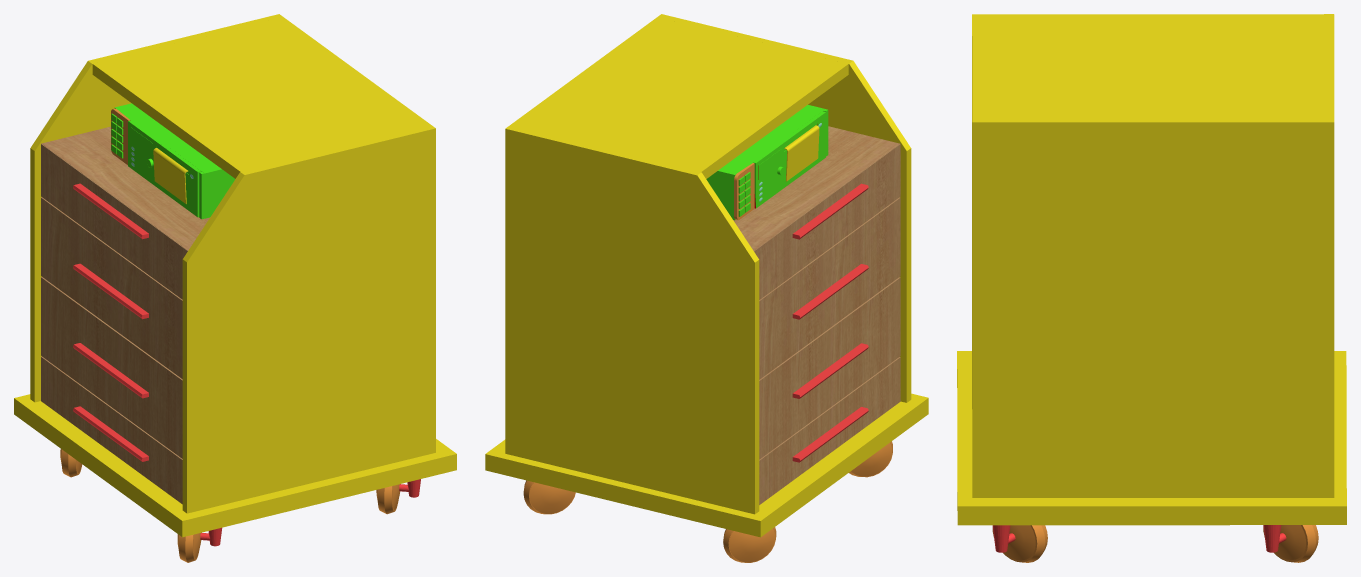
Rendered from cabinet03.FBX.
3 views of the same model, side by side, from view 1: azimuth 30°, elevation 25°; view 2: azimuth 150°, elevation 25°; view 3: azimuth 270°, elevation 25° (orthographic). The views are drawn at different scales.
Parts seen in each view (by area): view 1: cabinet03; view 2: cabinet03; view 3: cabinet03.
Part boxes in pixels (x1,y1,x2,y2): cabinet03: [14, 14, 456, 562]; cabinet03: [485, 14, 928, 562]; cabinet03: [957, 14, 1346, 562].
Size of the model in its own units: 506 by 688 by 536.
